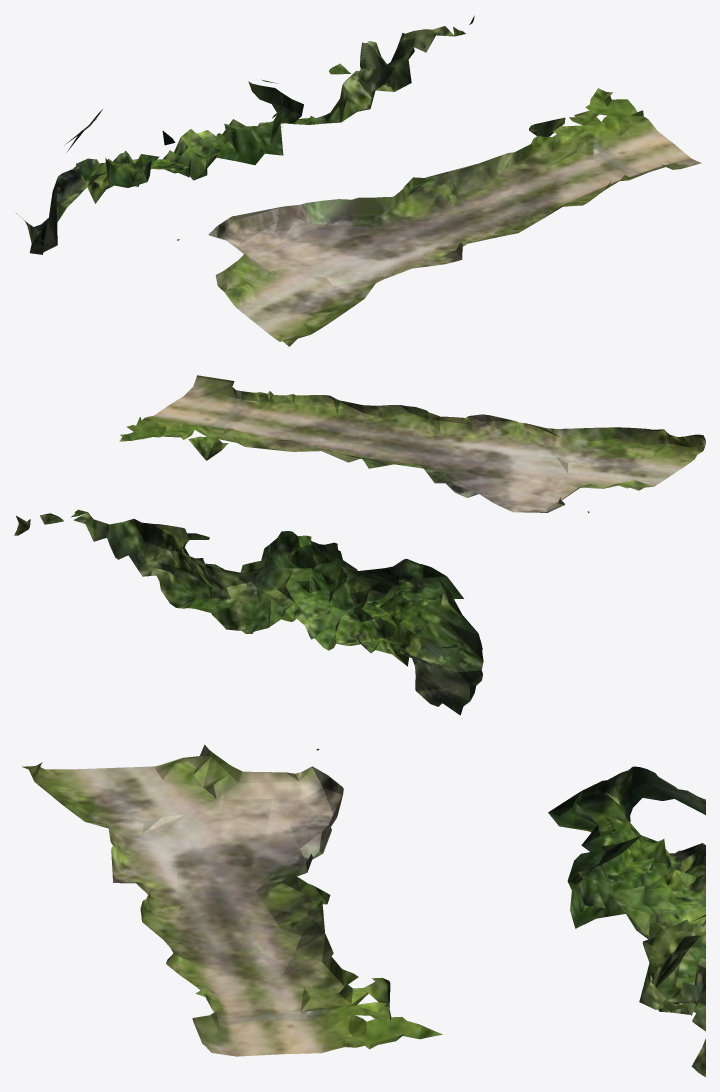
3 views of the same model, one above another, from view 1: azimuth 30°, elevation 25°; view 2: azimuth 150°, elevation 25°; view 3: azimuth 270°, elevation 25° (orthographic). The views are drawn at different scales.
Size of the model in its own units: 26.11 by 6.07 by 25.74.
Materials: 2 (2 with a texture image).
